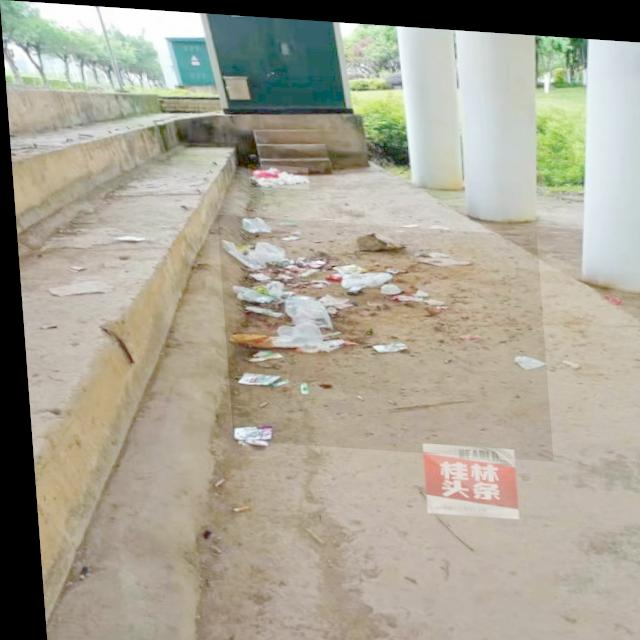garbage: (214, 212, 547, 455), (246, 160, 307, 186)
